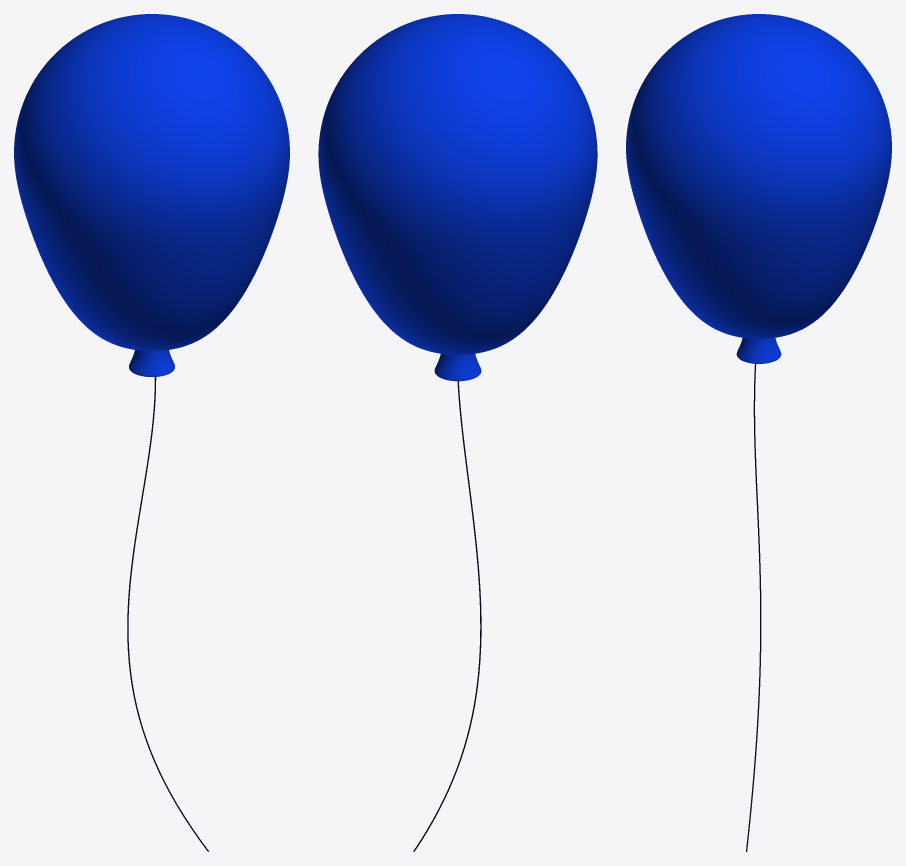
File: Balloon_blue.fbx
3 views of the same model, side by side, from view 1: azimuth 30°, elevation 25°; view 2: azimuth 150°, elevation 25°; view 3: azimuth 270°, elevation 25° (orthographic). The views are drawn at different scales.
Parts seen in each view (by area): view 1: Sphere, NurbsPath; view 2: Sphere, NurbsPath; view 3: Sphere, NurbsPath.
Boxes of the visible parts, bbox=[...] form: Sphere: bbox=[14, 14, 289, 376]; NurbsPath: bbox=[127, 377, 208, 851]; Sphere: bbox=[318, 14, 597, 381]; NurbsPath: bbox=[413, 381, 481, 851]; Sphere: bbox=[626, 14, 891, 363]; NurbsPath: bbox=[746, 364, 761, 851].
Bounding box in the file's own units: 197 × 658 × 197.
